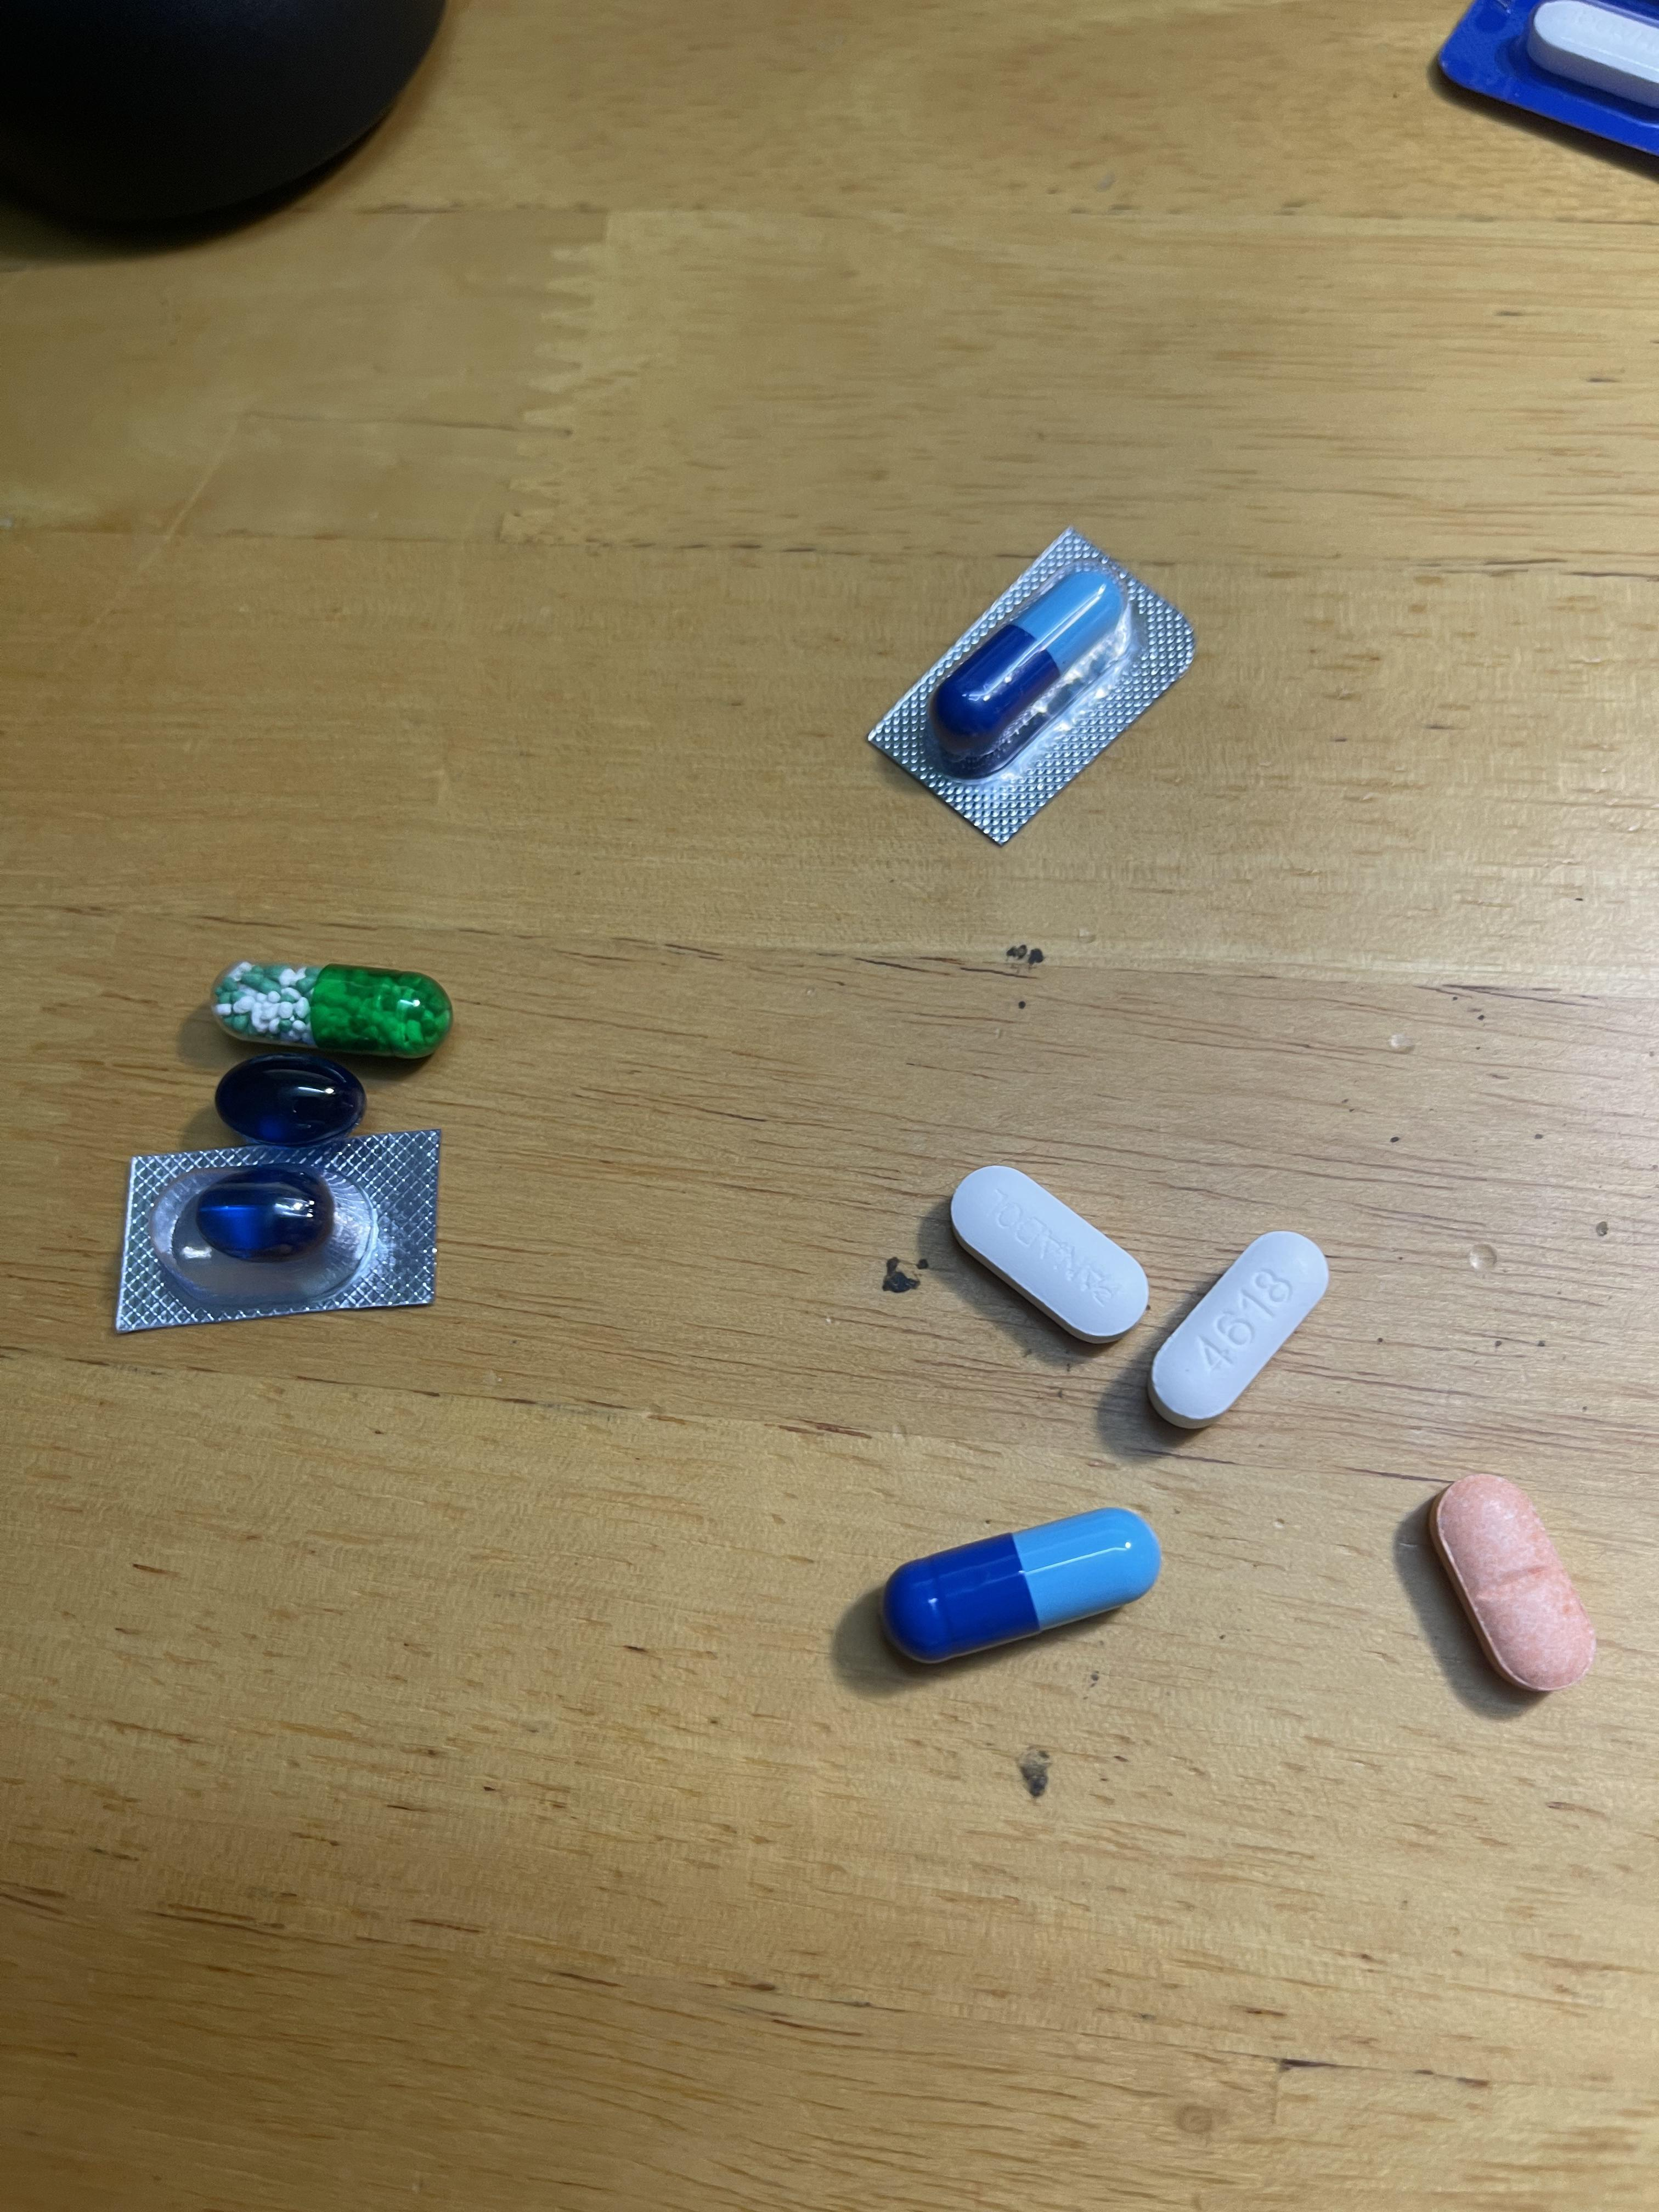Lincomyxin_500mg: (192, 1177, 335, 1261), (214, 1057, 362, 1137)
Loratadine_10mg: (1436, 1472, 1598, 1693)
Paracetamol_350mg: (950, 1162, 1145, 1345)
Paracetamol_500mg: (1148, 1228, 1323, 1428)
Paracetamol_650mg: (218, 963, 444, 1055)
pill: (887, 1505, 1150, 1663), (934, 568, 1133, 770)
